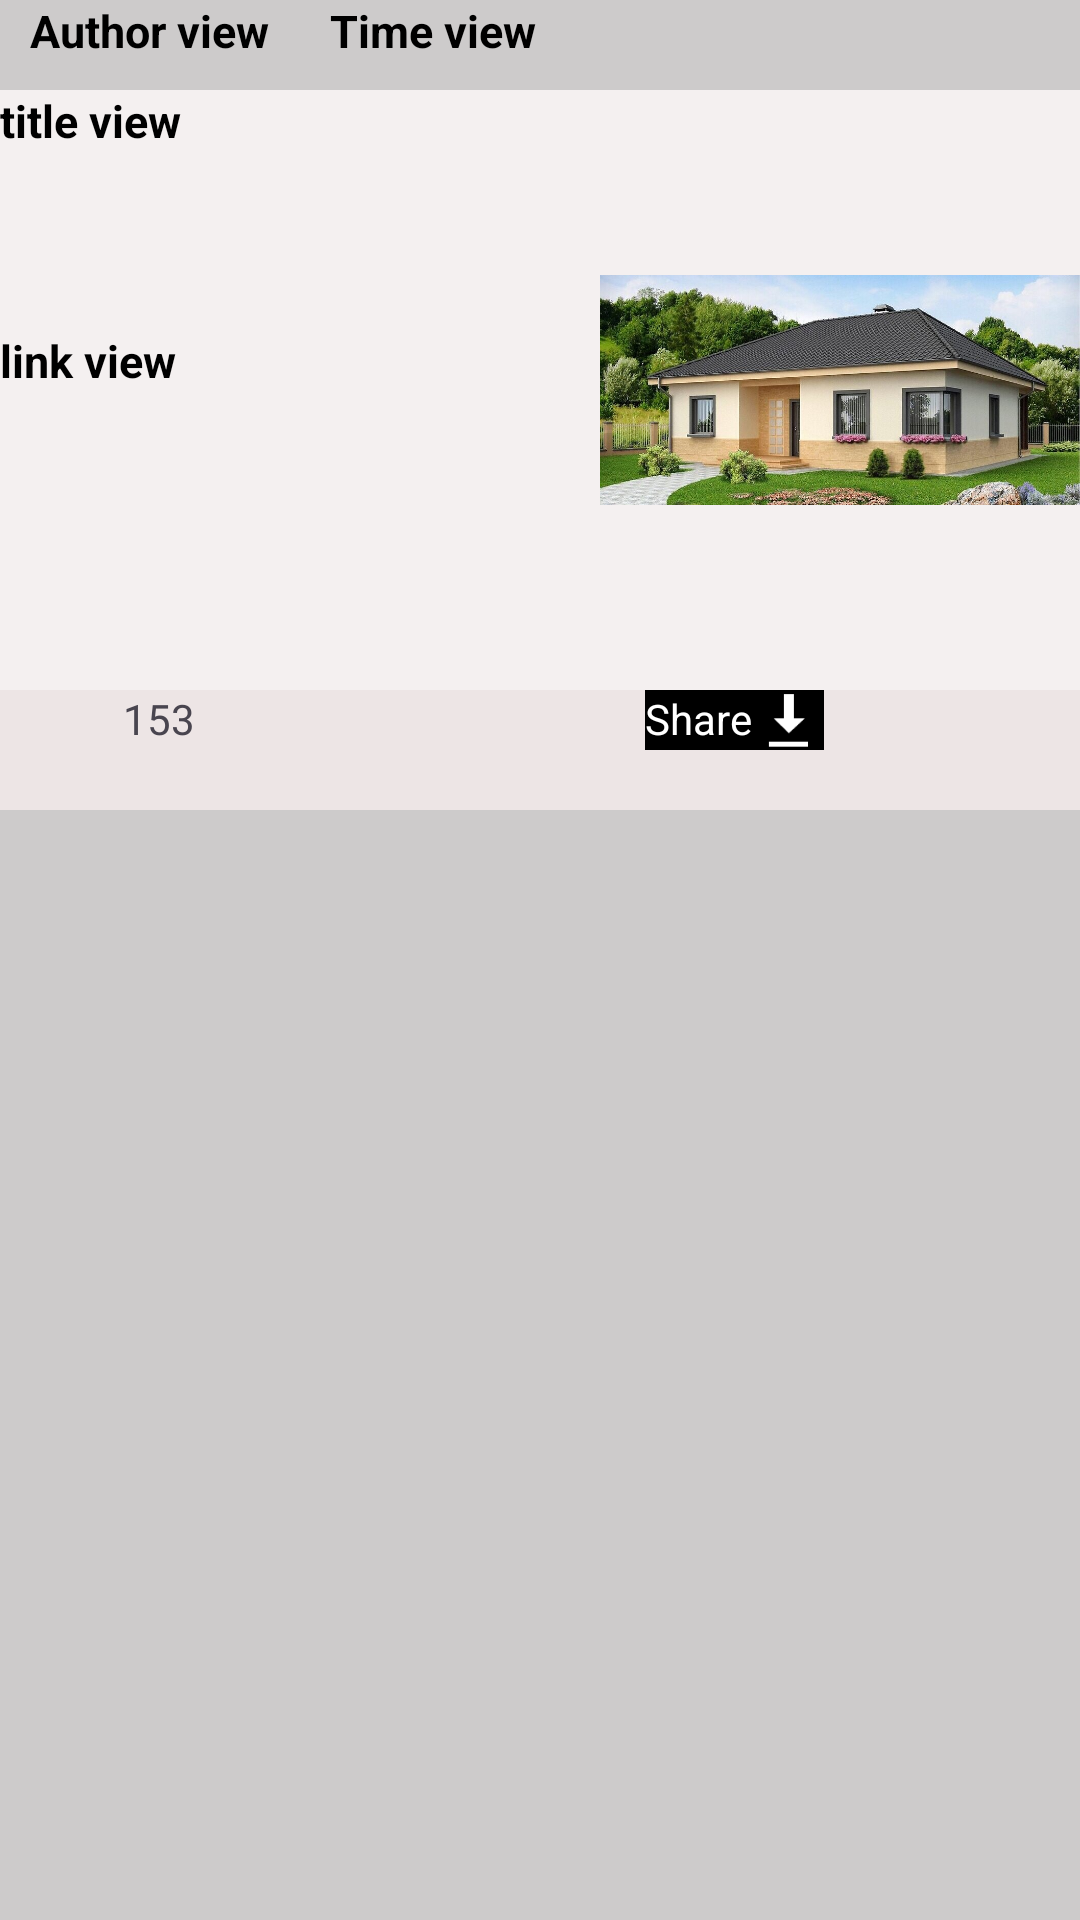

Icon bounding boxes for this 1080px×1920px phone screenshot, format (x1, y1, x2, y2):
download: (752, 690, 824, 750)
